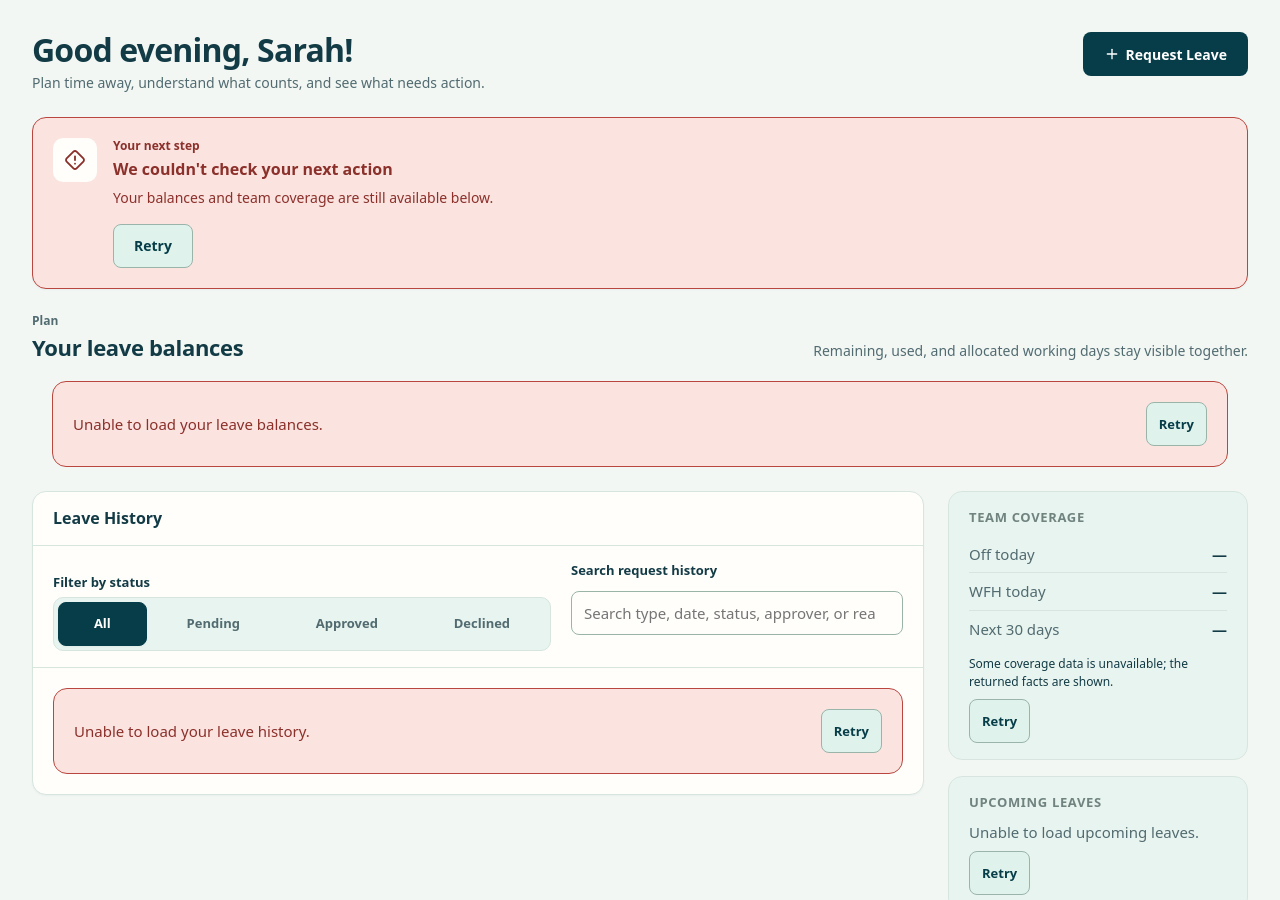
Test: MyLeavesPage › [P1] keeps balance and history errors adjacent and retries each region
Expected: the message "Unable to load your leave balances." is shown, 73,413 -> 323,436
Expected: the message "Unable to load your leave history." is shown, 74,720 -> 310,742
Click the button "Retry" in the row of "Unable to load your leave balances.": [1176, 424] box 1146,402 -> 1207,446
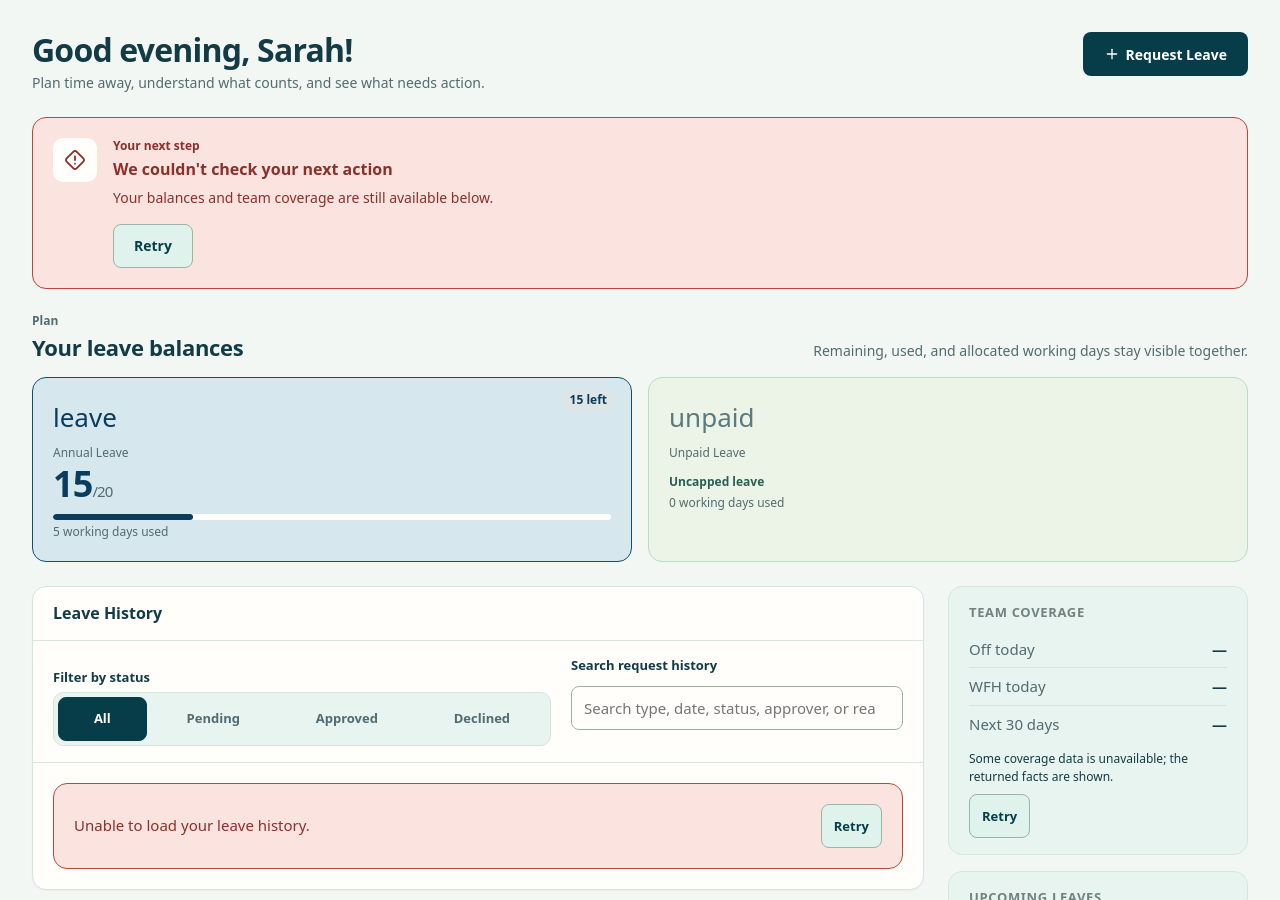
Click the button "Retry" in the row of "Unable to load your leave history.": [851, 826] box 821,804 -> 882,848
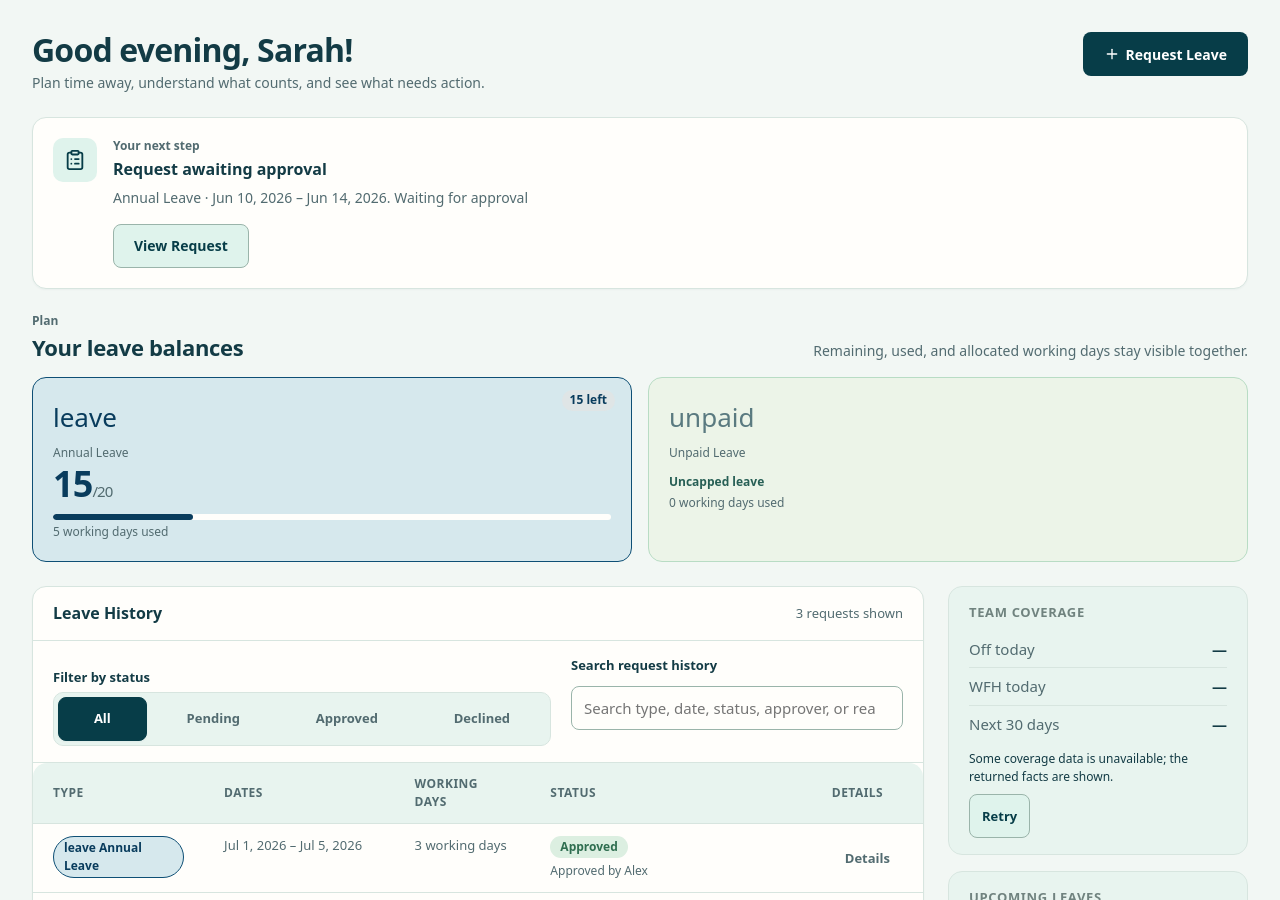
Expected: the element with test id "my-leaves-balance-grid" is shown, 32,377 -> 1248,562
Expected: the row with test id "my-leaves-request-row-3" is shown, 33,823 -> 923,892
